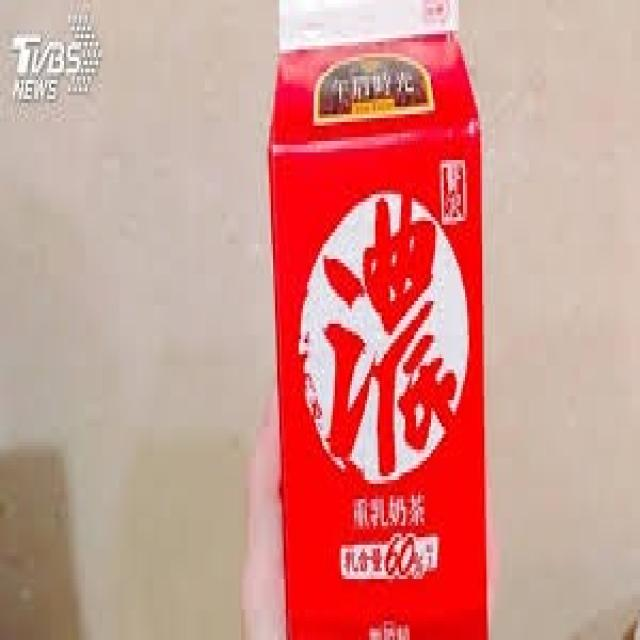Known_MilkTea: (262, 7, 493, 640)
